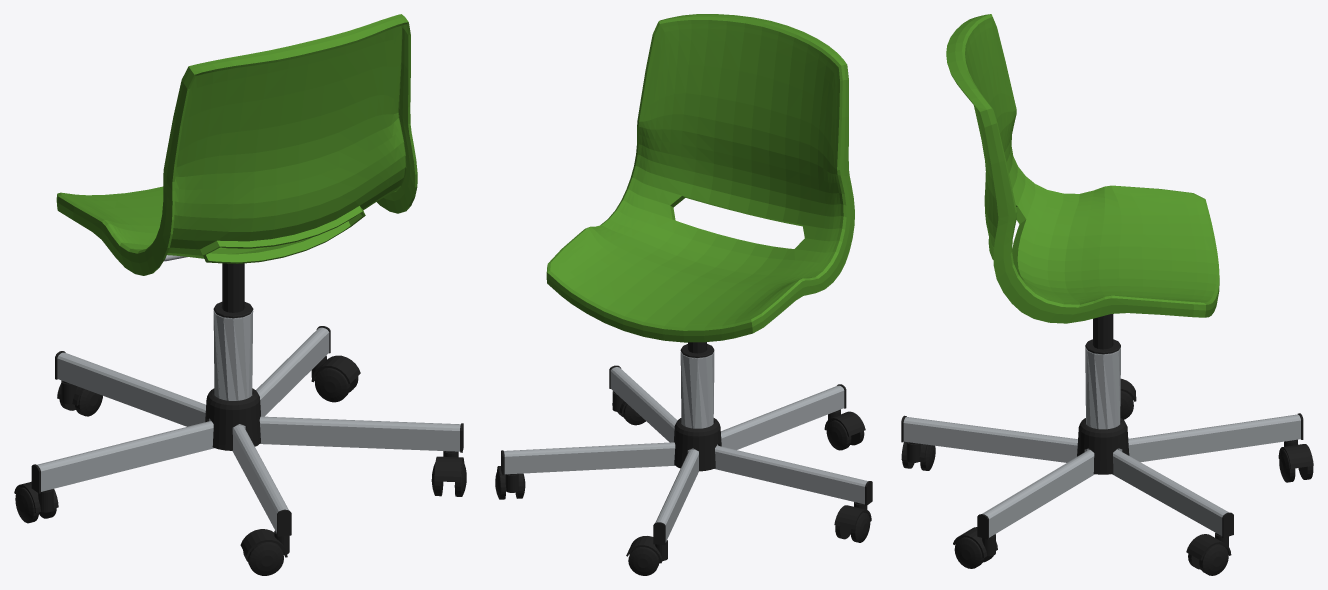
The picture shows the model from 3 angles, left to right: view 1: azimuth 30°, elevation 25°; view 2: azimuth 150°, elevation 25°; view 3: azimuth 270°, elevation 25°; orthographic projection. The views are drawn at different scales.
Visible parts, largest first — view 1: Mesh2 Group2 SNILLE_IKEA1 Model, Mesh8 Group6 SNILLE_IKEA1 Model, Mesh7 Group5 SNILLE_IKEA1 Model, Mesh1 Group1 SNILLE_IKEA1 Model, Mesh3 Group3 SNILLE_IKEA1 Model, Mesh20 ROULETTE4 SNILLE_IKEA1 Model, Mesh16 ROULETTE3 SNILLE_IKEA1 Model, Mesh12 ROULETTE2 SNILLE_IKEA1 Model, Mesh18 ROULETTE4 SNILLE_IKEA1 Model, Mesh15 ROULETTE3 SNILLE_IKEA1 Model, Mesh9 ROULETTE1 SNILLE_IKEA1 Model, Mesh11 ROULETTE1 SNILLE_IKEA1 Model; view 2: Mesh2 Group2 SNILLE_IKEA1 Model, Mesh8 Group6 SNILLE_IKEA1 Model, Mesh7 Group5 SNILLE_IKEA1 Model, Mesh1 Group1 SNILLE_IKEA1 Model, Mesh23 ROULETTE5 SNILLE_IKEA1 Model, Mesh9 ROULETTE1 SNILLE_IKEA1 Model, Mesh18 ROULETTE4 SNILLE_IKEA1 Model, Mesh19 ROULETTE4 SNILLE_IKEA1 Model, Mesh21 ROULETTE5 SNILLE_IKEA1 Model; view 3: Mesh2 Group2 SNILLE_IKEA1 Model, Mesh8 Group6 SNILLE_IKEA1 Model, Mesh7 Group5 SNILLE_IKEA1 Model, Mesh1 Group1 SNILLE_IKEA1 Model, Mesh3 Group3 SNILLE_IKEA1 Model, Mesh14 ROULETTE2 SNILLE_IKEA1 Model, Mesh17 ROULETTE3 SNILLE_IKEA1 Model, Mesh21 ROULETTE5 SNILLE_IKEA1 Model, Mesh15 ROULETTE3 SNILLE_IKEA1 Model, Mesh12 ROULETTE2 SNILLE_IKEA1 Model.
Part boxes in pixels (x1,y1,x2,y2): Mesh2 Group2 SNILLE_IKEA1 Model: [56, 14, 417, 275]; Mesh8 Group6 SNILLE_IKEA1 Model: [31, 326, 463, 536]; Mesh7 Group5 SNILLE_IKEA1 Model: [213, 310, 253, 400]; Mesh1 Group1 SNILLE_IKEA1 Model: [205, 388, 260, 450]; Mesh3 Group3 SNILLE_IKEA1 Model: [213, 263, 253, 318]; Mesh20 ROULETTE4 SNILLE_IKEA1 Model: [247, 542, 283, 575]; Mesh16 ROULETTE3 SNILLE_IKEA1 Model: [315, 368, 350, 402]; Mesh12 ROULETTE2 SNILLE_IKEA1 Model: [434, 451, 464, 482]; Mesh18 ROULETTE4 SNILLE_IKEA1 Model: [240, 529, 289, 557]; Mesh15 ROULETTE3 SNILLE_IKEA1 Model: [311, 355, 360, 383]; Mesh9 ROULETTE1 SNILLE_IKEA1 Model: [14, 481, 58, 512]; Mesh11 ROULETTE1 SNILLE_IKEA1 Model: [15, 487, 38, 523]; Mesh2 Group2 SNILLE_IKEA1 Model: [546, 14, 854, 342]; Mesh8 Group6 SNILLE_IKEA1 Model: [501, 365, 872, 544]; Mesh7 Group5 SNILLE_IKEA1 Model: [680, 351, 714, 428]; Mesh1 Group1 SNILLE_IKEA1 Model: [674, 418, 721, 471]; Mesh23 ROULETTE5 SNILLE_IKEA1 Model: [628, 547, 659, 575]; Mesh9 ROULETTE1 SNILLE_IKEA1 Model: [834, 502, 871, 529]; Mesh18 ROULETTE4 SNILLE_IKEA1 Model: [824, 409, 865, 436]; Mesh19 ROULETTE4 SNILLE_IKEA1 Model: [826, 420, 851, 450]; Mesh21 ROULETTE5 SNILLE_IKEA1 Model: [626, 536, 667, 563]; Mesh2 Group2 SNILLE_IKEA1 Model: [946, 14, 1219, 323]; Mesh8 Group6 SNILLE_IKEA1 Model: [901, 413, 1303, 539]; Mesh7 Group5 SNILLE_IKEA1 Model: [1085, 347, 1120, 429]; Mesh1 Group1 SNILLE_IKEA1 Model: [1077, 418, 1129, 474]; Mesh3 Group3 SNILLE_IKEA1 Model: [1085, 314, 1120, 354]; Mesh14 ROULETTE2 SNILLE_IKEA1 Model: [954, 537, 984, 568]; Mesh17 ROULETTE3 SNILLE_IKEA1 Model: [1199, 544, 1228, 575]; Mesh21 ROULETTE5 SNILLE_IKEA1 Model: [1278, 439, 1313, 468]; Mesh15 ROULETTE3 SNILLE_IKEA1 Model: [1186, 532, 1231, 560]; Mesh12 ROULETTE2 SNILLE_IKEA1 Model: [953, 527, 997, 557].
Size of the model in its own units: 0.5836 by 0.7158 by 0.5962.
